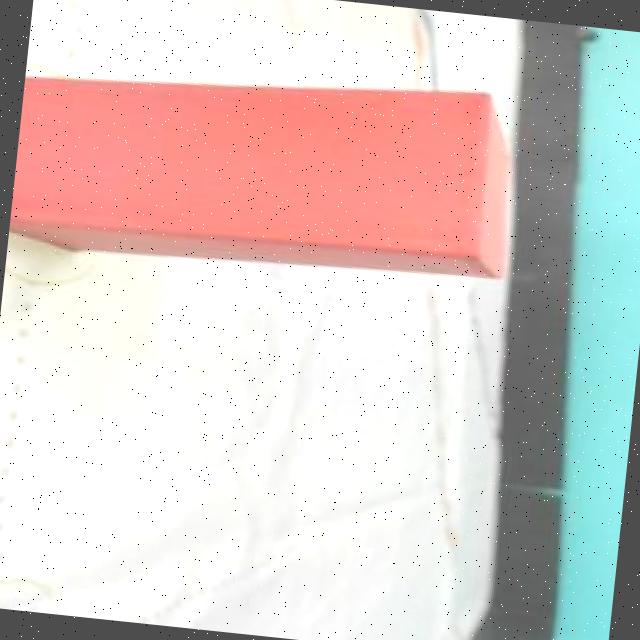redbox: (6, 46, 522, 290)
